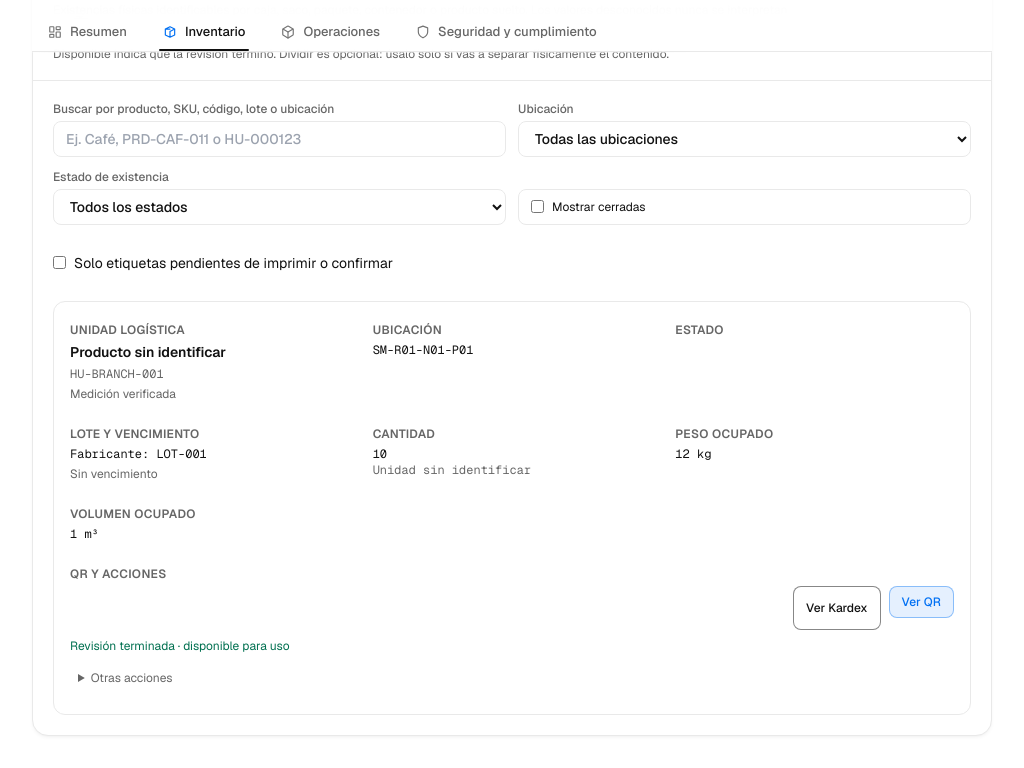
Test case: warehouse detail → HandlingUnitsPanel permissions › permite preparar fracciones en sucursal y conserva el despacho completo en matriz
(page scrolled)
expect the text "HU-BRANCH-001" is shown: met, box [70, 366, 164, 382]
Click the heading "Otras acciones".
click(132, 678)  # box [91, 670, 172, 686]
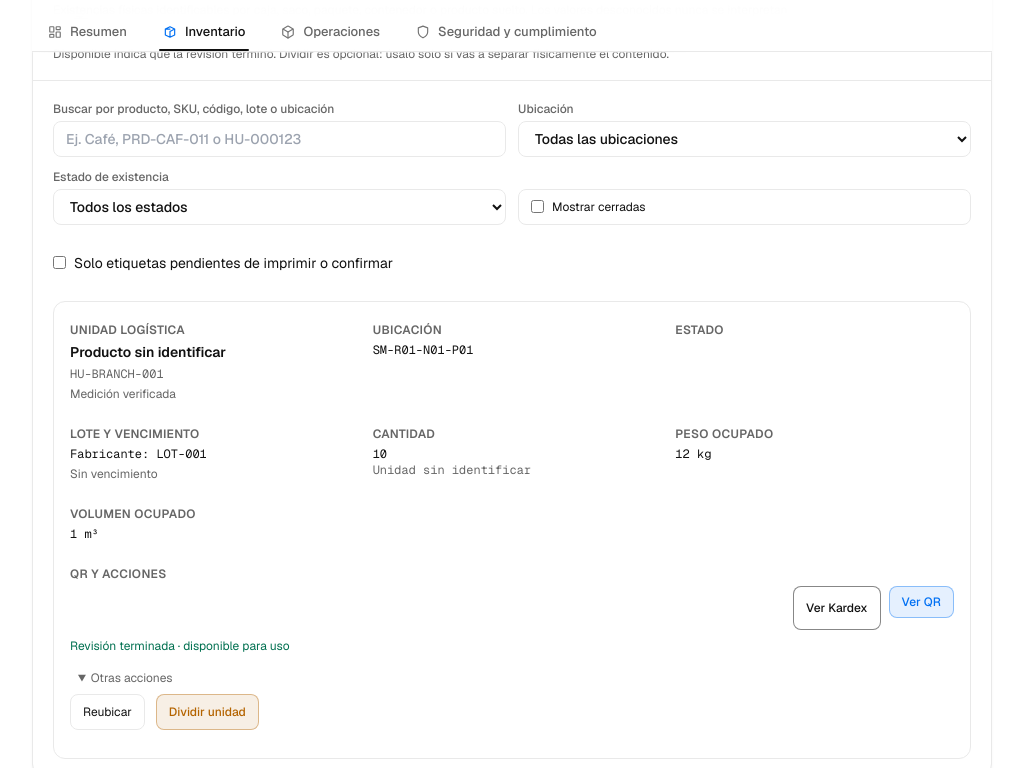
expect the button "Dividir unidad" is enabled: met, box [156, 694, 259, 730]
